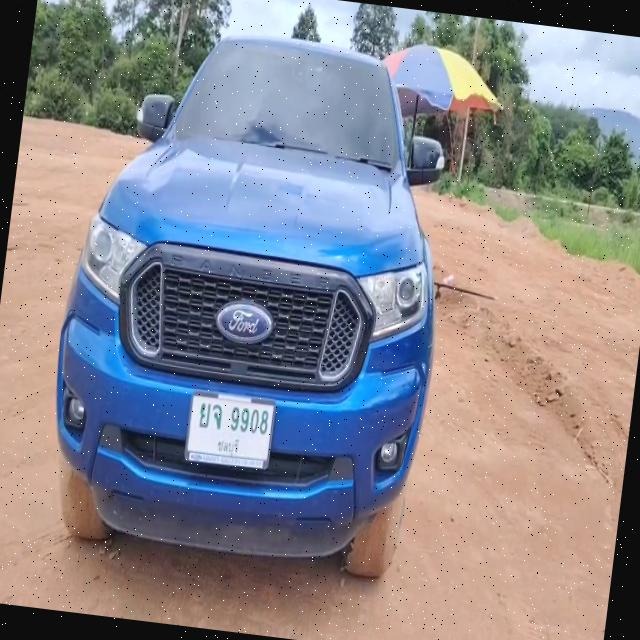Digit: (227, 402, 271, 438)
Licenseplate: (184, 390, 276, 470)
Provincename: (215, 434, 240, 457)
Thaichar: (198, 400, 224, 431)
